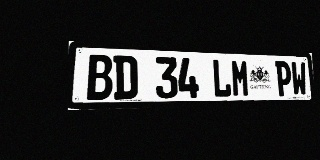3: (155, 57, 178, 99)
4: (178, 58, 199, 98)
B: (87, 54, 113, 100)
D: (113, 55, 138, 100)
L: (212, 59, 232, 98)
M: (231, 59, 250, 97)
P: (275, 61, 292, 96)
W: (291, 62, 307, 96)
